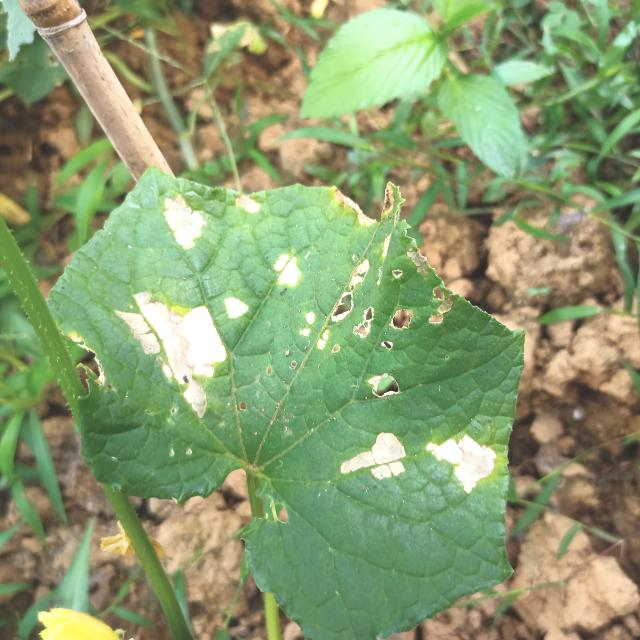disease_cucumber: (118, 192, 303, 433), (308, 253, 448, 407), (323, 414, 500, 498)
